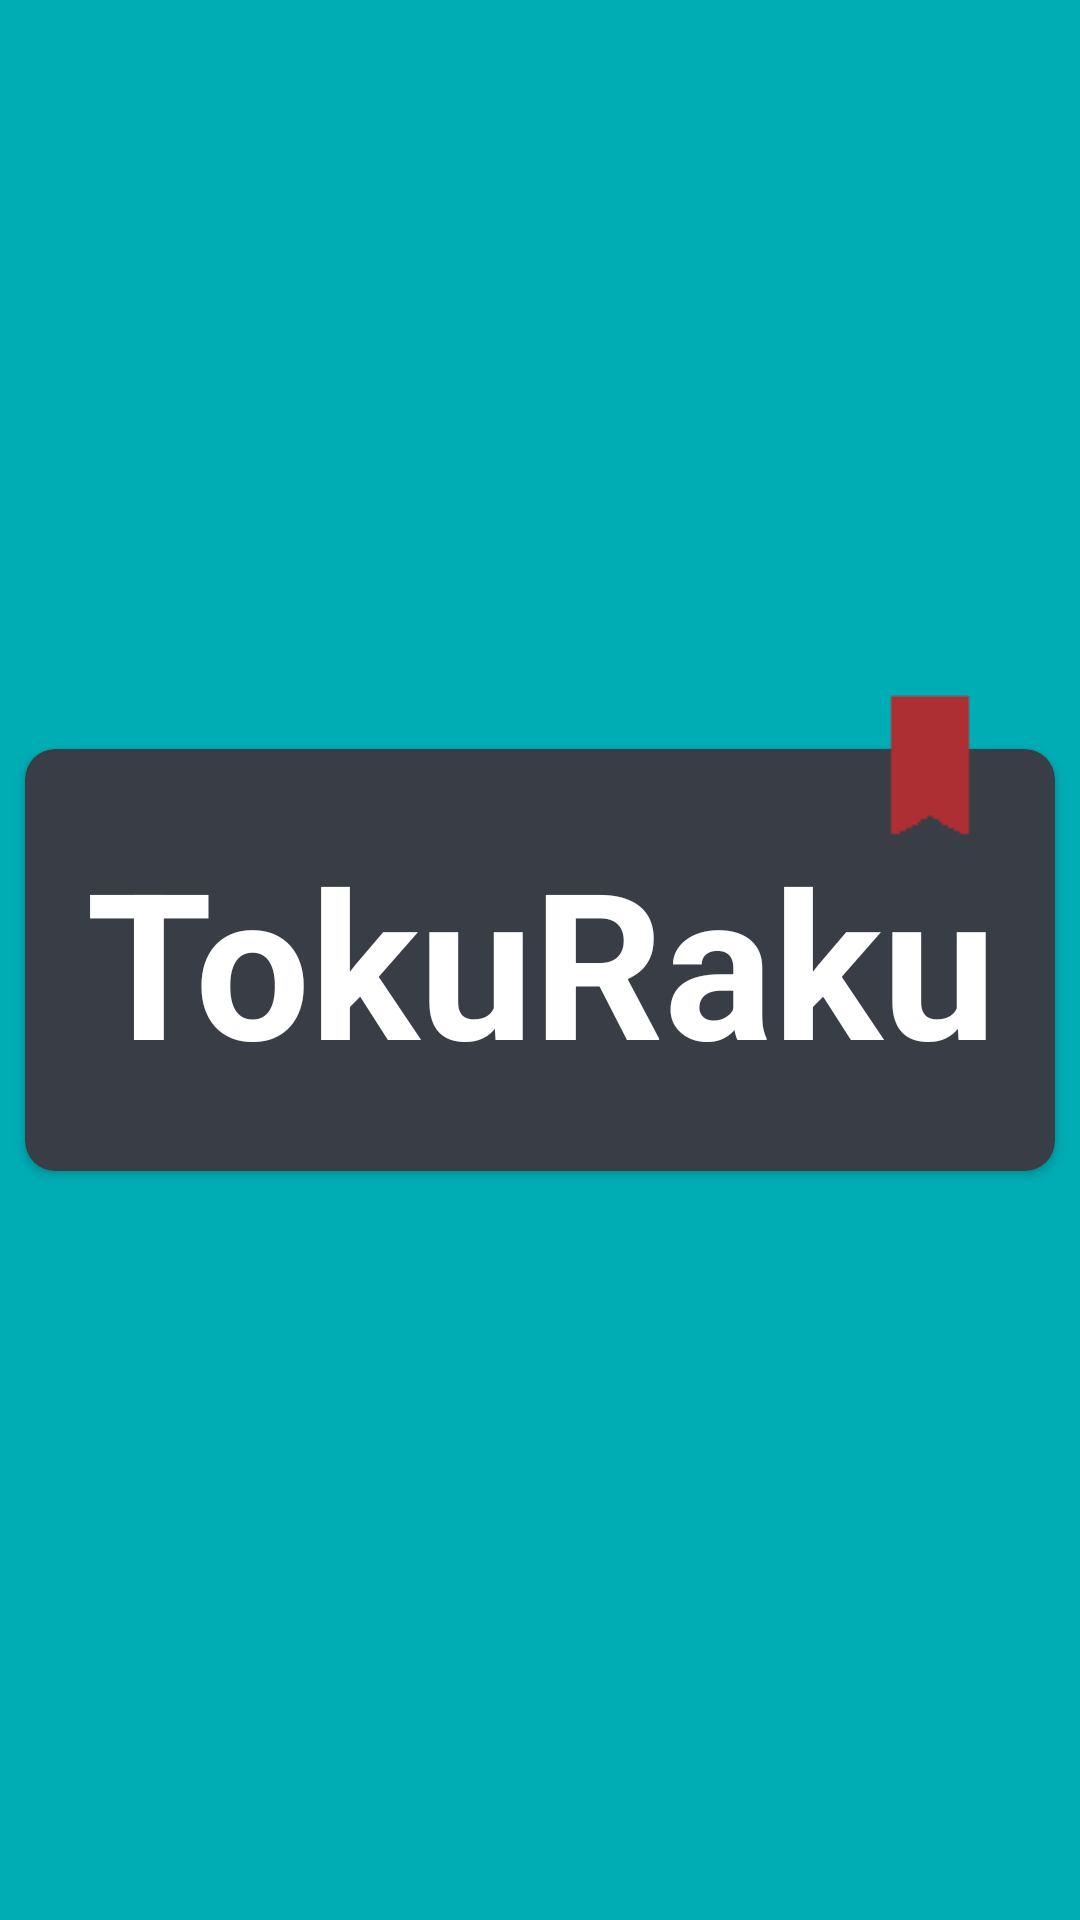

Icon click points for this 1080 × 1920 phone screenshot, format (x,y):
bookmark: (930,765)
